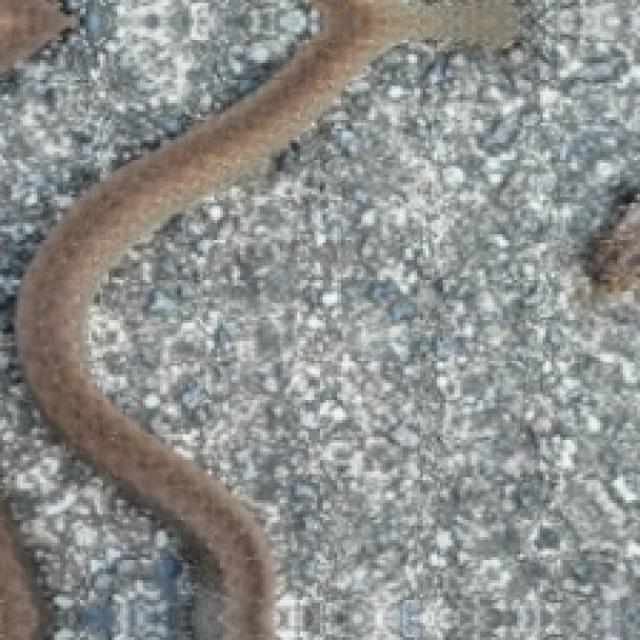reinhardts lined snake: (18, 0, 518, 640), (0, 500, 44, 639), (1, 0, 74, 73), (589, 201, 640, 291)
